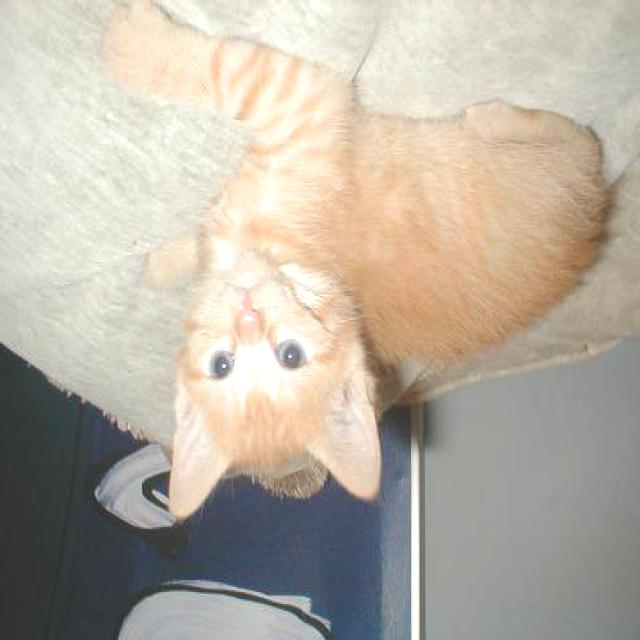Kucing: (19, 0, 621, 519)
